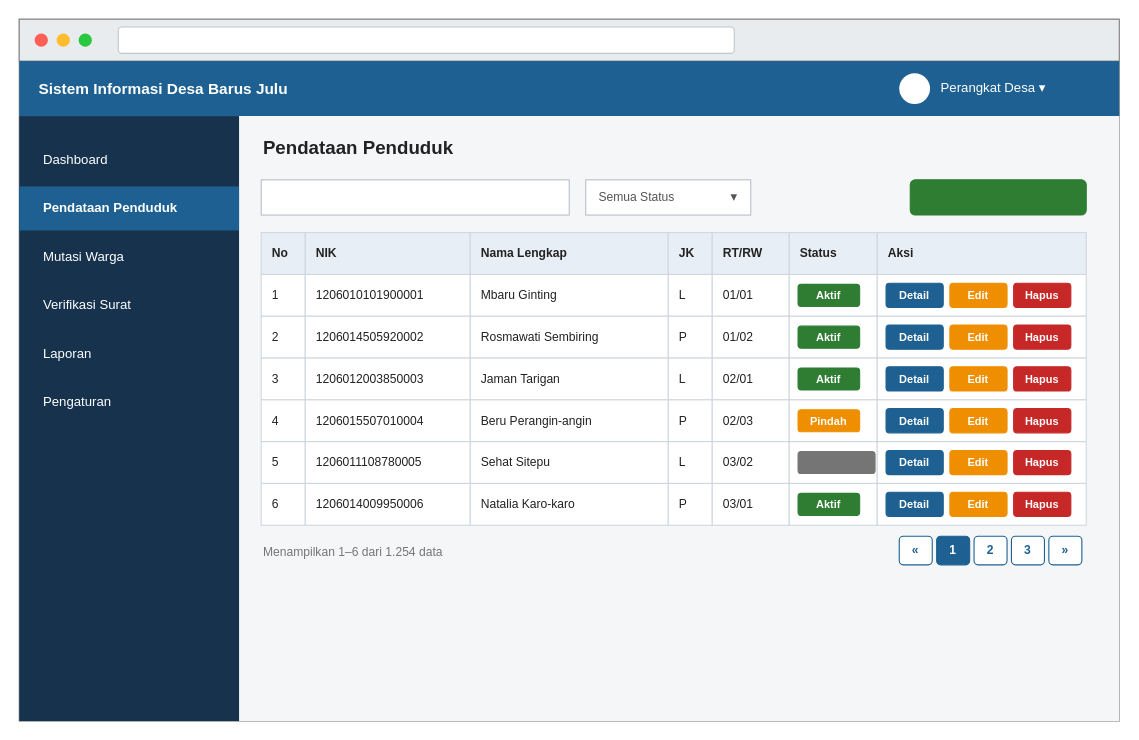
Some shapes in this 1139 by 740 pixel diagram are drawn without their labels. The shapes that lost their labels are listed below. From the top down, each one's centre as x and y in pixels, then its label:
At (425,39): "localhost/desa-barus-julu/admin/penduduk".
At (414,197): "Cari NIK, nama, no. KK, atau alamat".
At (997,197): "+ Tambah Penduduk".
At (836,462): "Meninggal".
